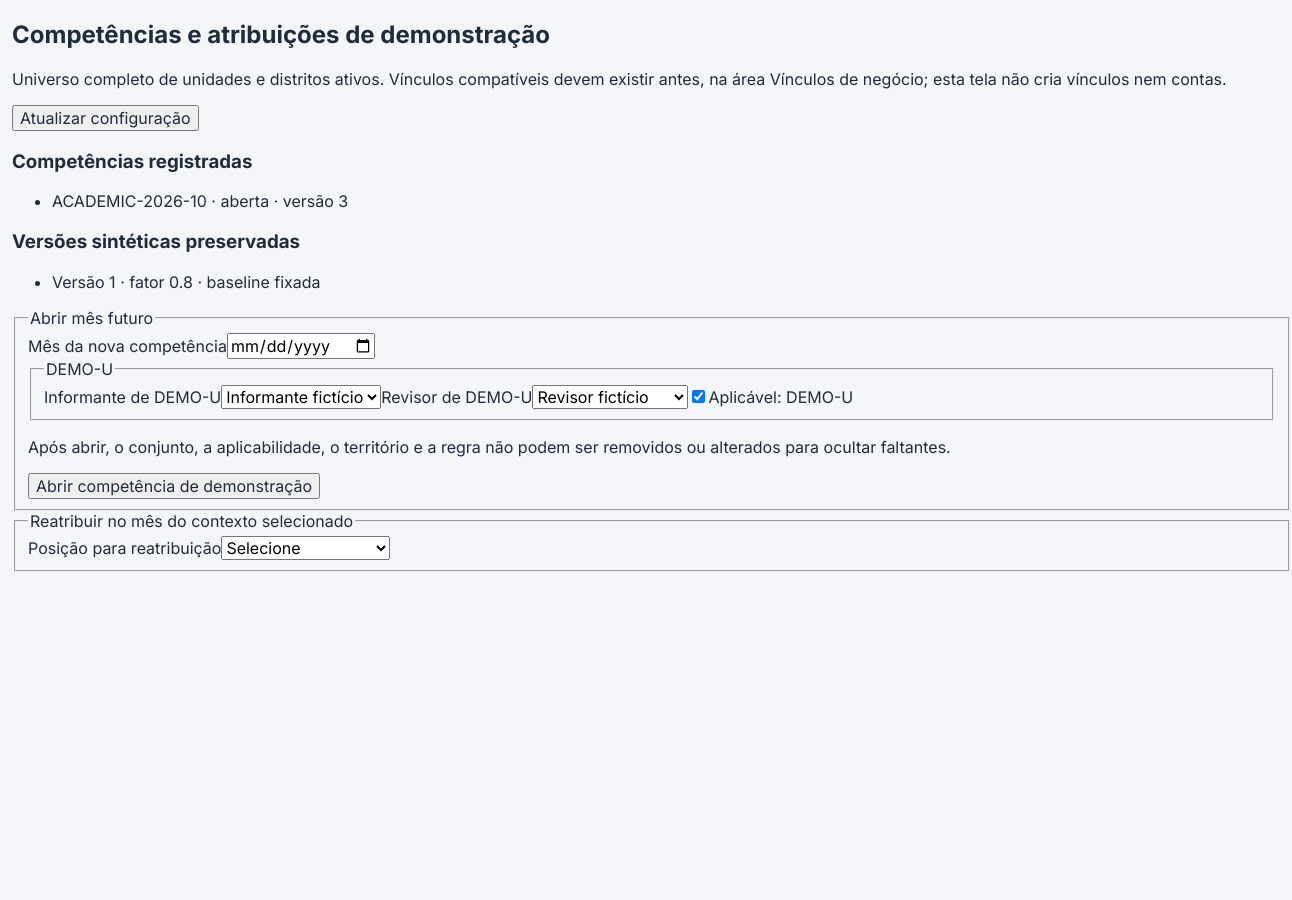
Test: future configuration command boundary › opens the complete visible universe, excludes self and retries identical assignments after lost response
The image size is (1292, 900).
Expected: the dropdown labelled "Informante de DEMO-U" is shown, [221,385,381,409]
Type "2026-11-01" into the date field labelled "Mês da nova competência". click: [301, 346]
box: [227,333,375,359]
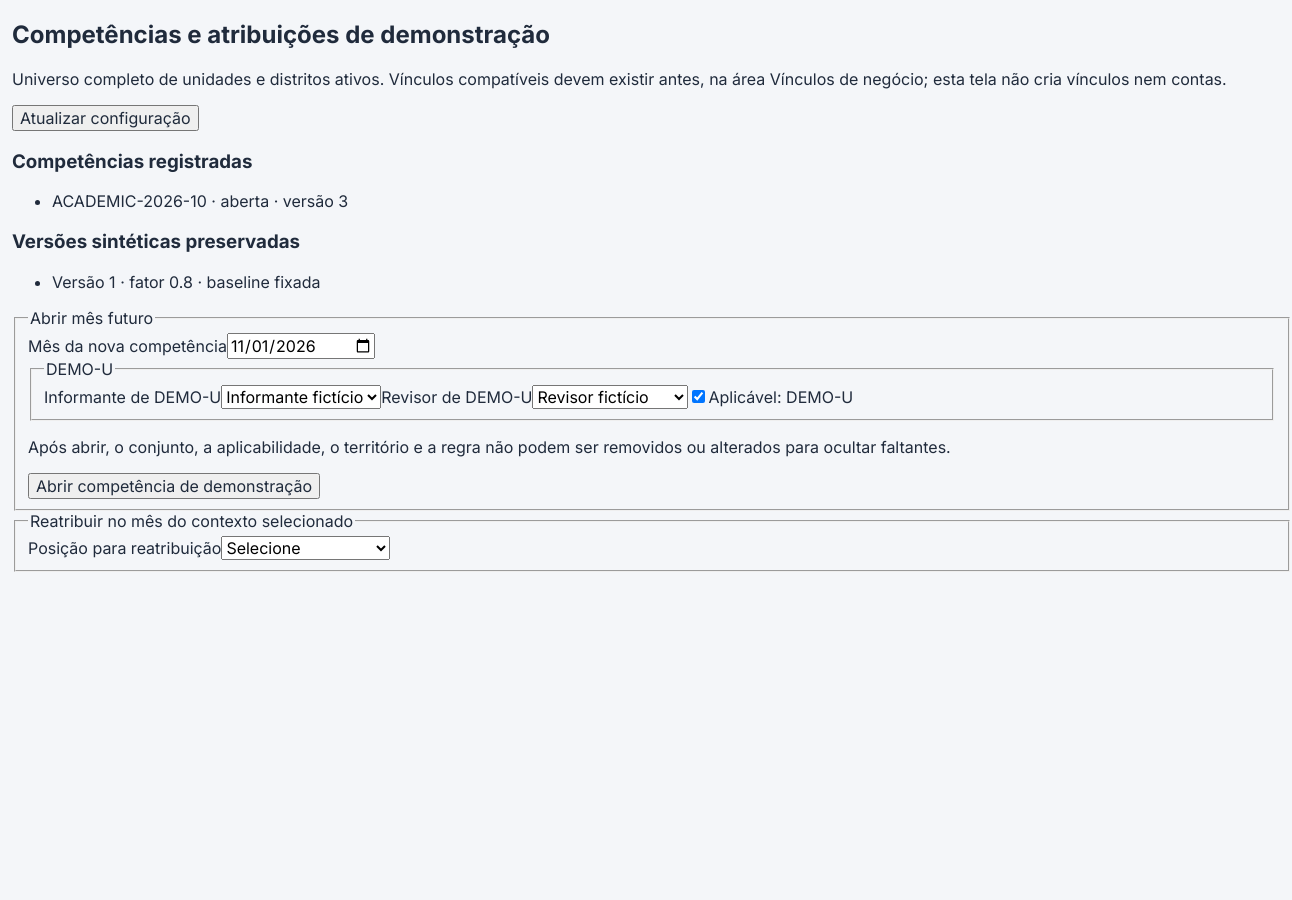
Click the button "Abrir competência de demonstração". click: [174, 486]
box: [28,473,320,499]
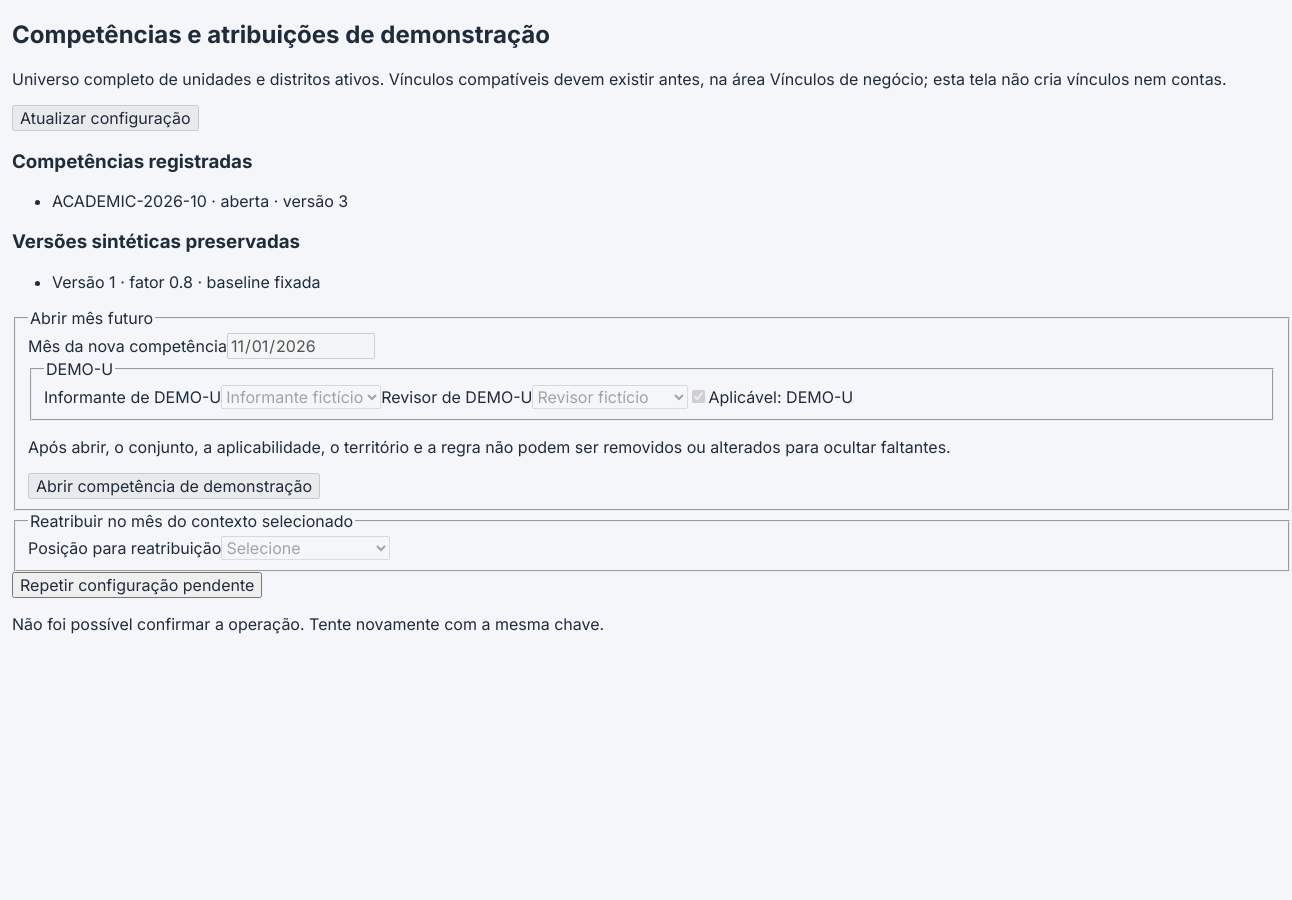
Click the button "Repetir configuração pendente". click: [137, 586]
box: [12,572,262,598]
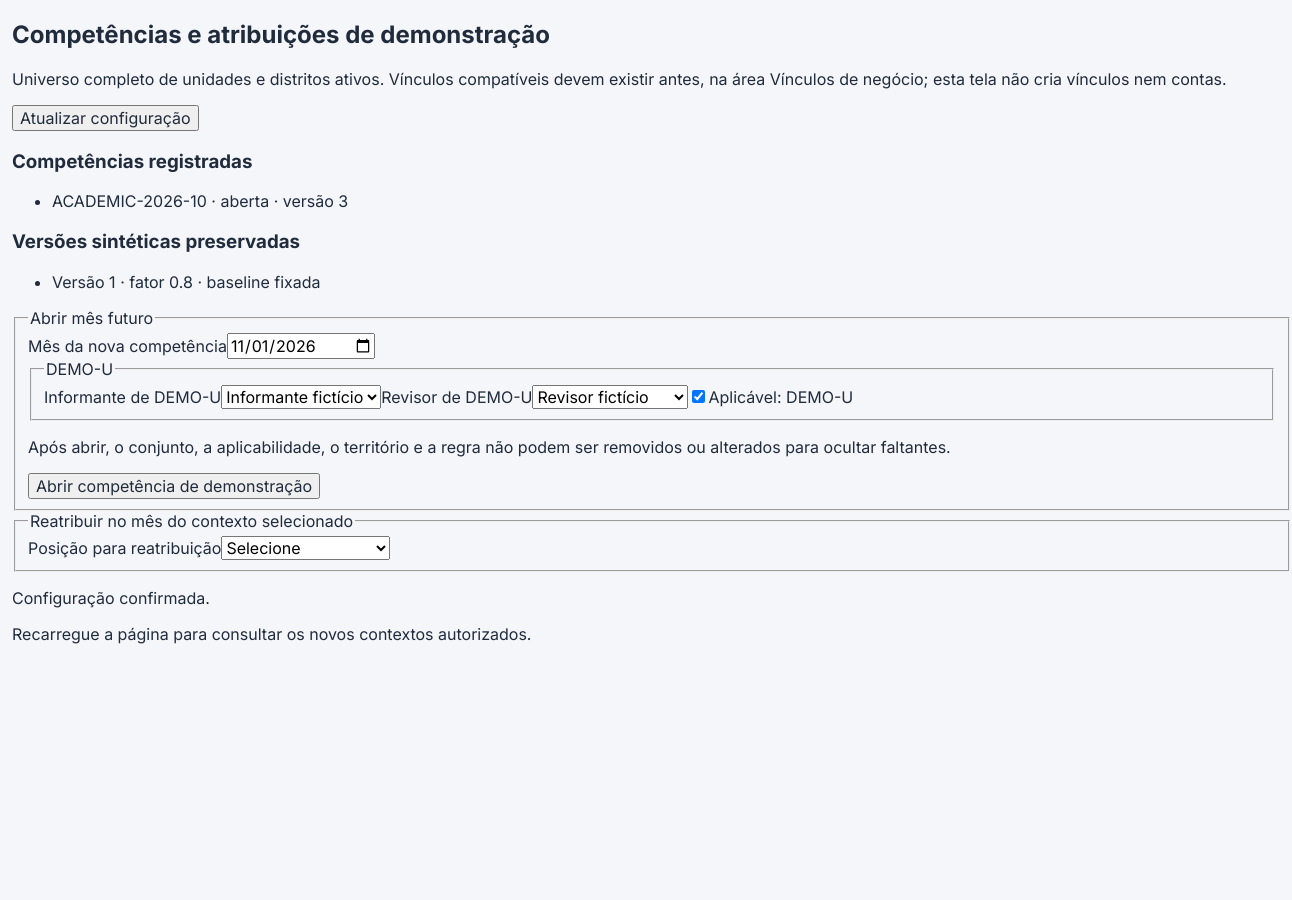
Result: the text "Configuração confirmada." is shown at [12,588,210,608]
